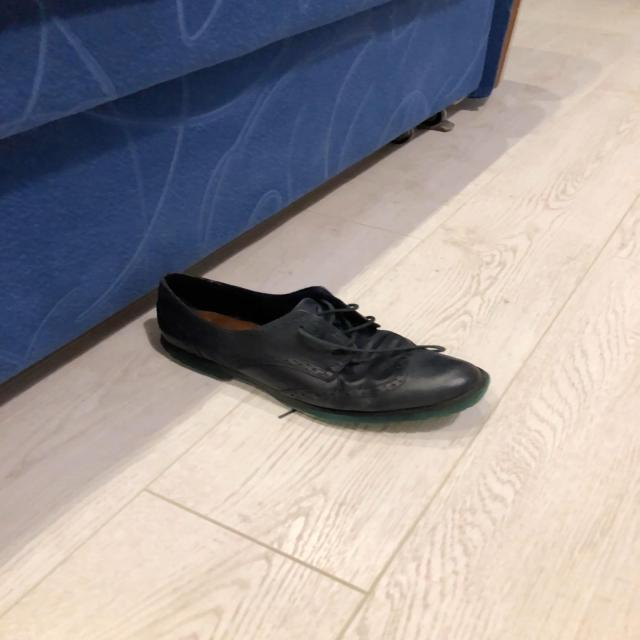shoe: (154, 274, 490, 419)
